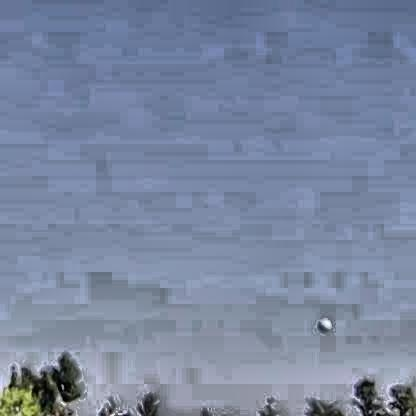golfball: (315, 314, 330, 329)
